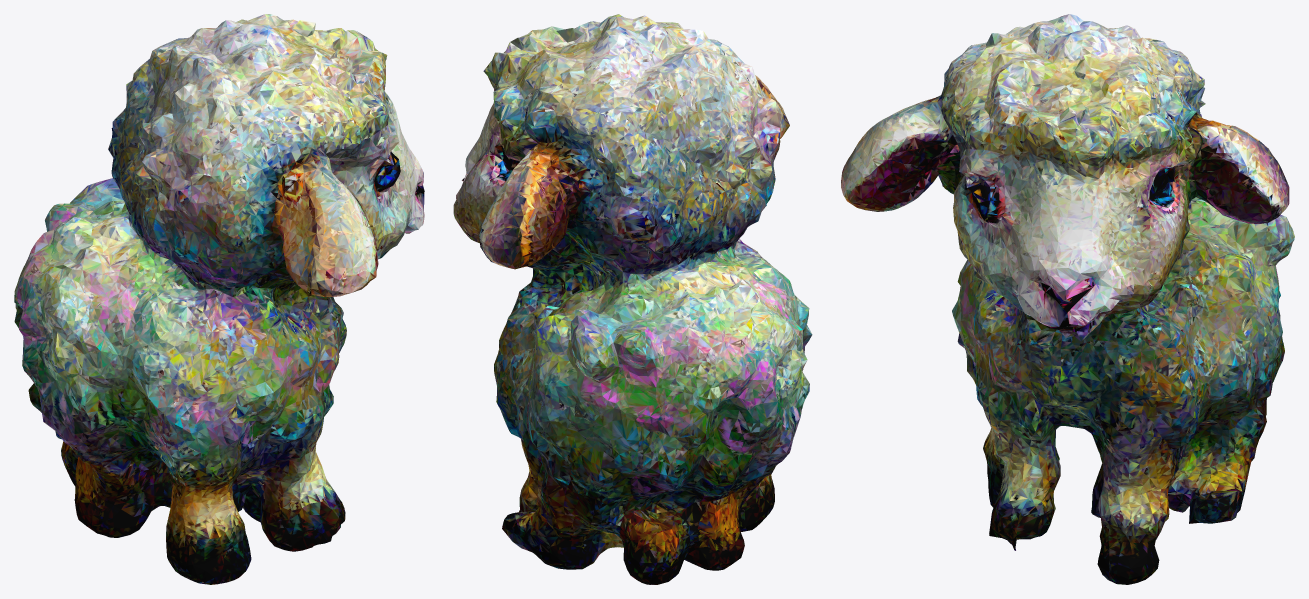
The model's file is baby_sheep-normal.glb.
The picture shows the model from 3 angles, left to right: view 1: azimuth 30°, elevation 25°; view 2: azimuth 150°, elevation 25°; view 3: azimuth 270°, elevation 25°; orthographic projection.
Parts seen in each view (by area): view 1: extracted_mesh; view 2: extracted_mesh; view 3: extracted_mesh.
Part boxes in pixels (box(x1,y1,x2,y2)): extracted_mesh: box(14, 14, 424, 584); extracted_mesh: box(453, 14, 812, 584); extracted_mesh: box(841, 14, 1294, 584).
Bounding box in the file's own units: 0.8047 × 1.12 × 0.8752.
1 material, 1 textured.
